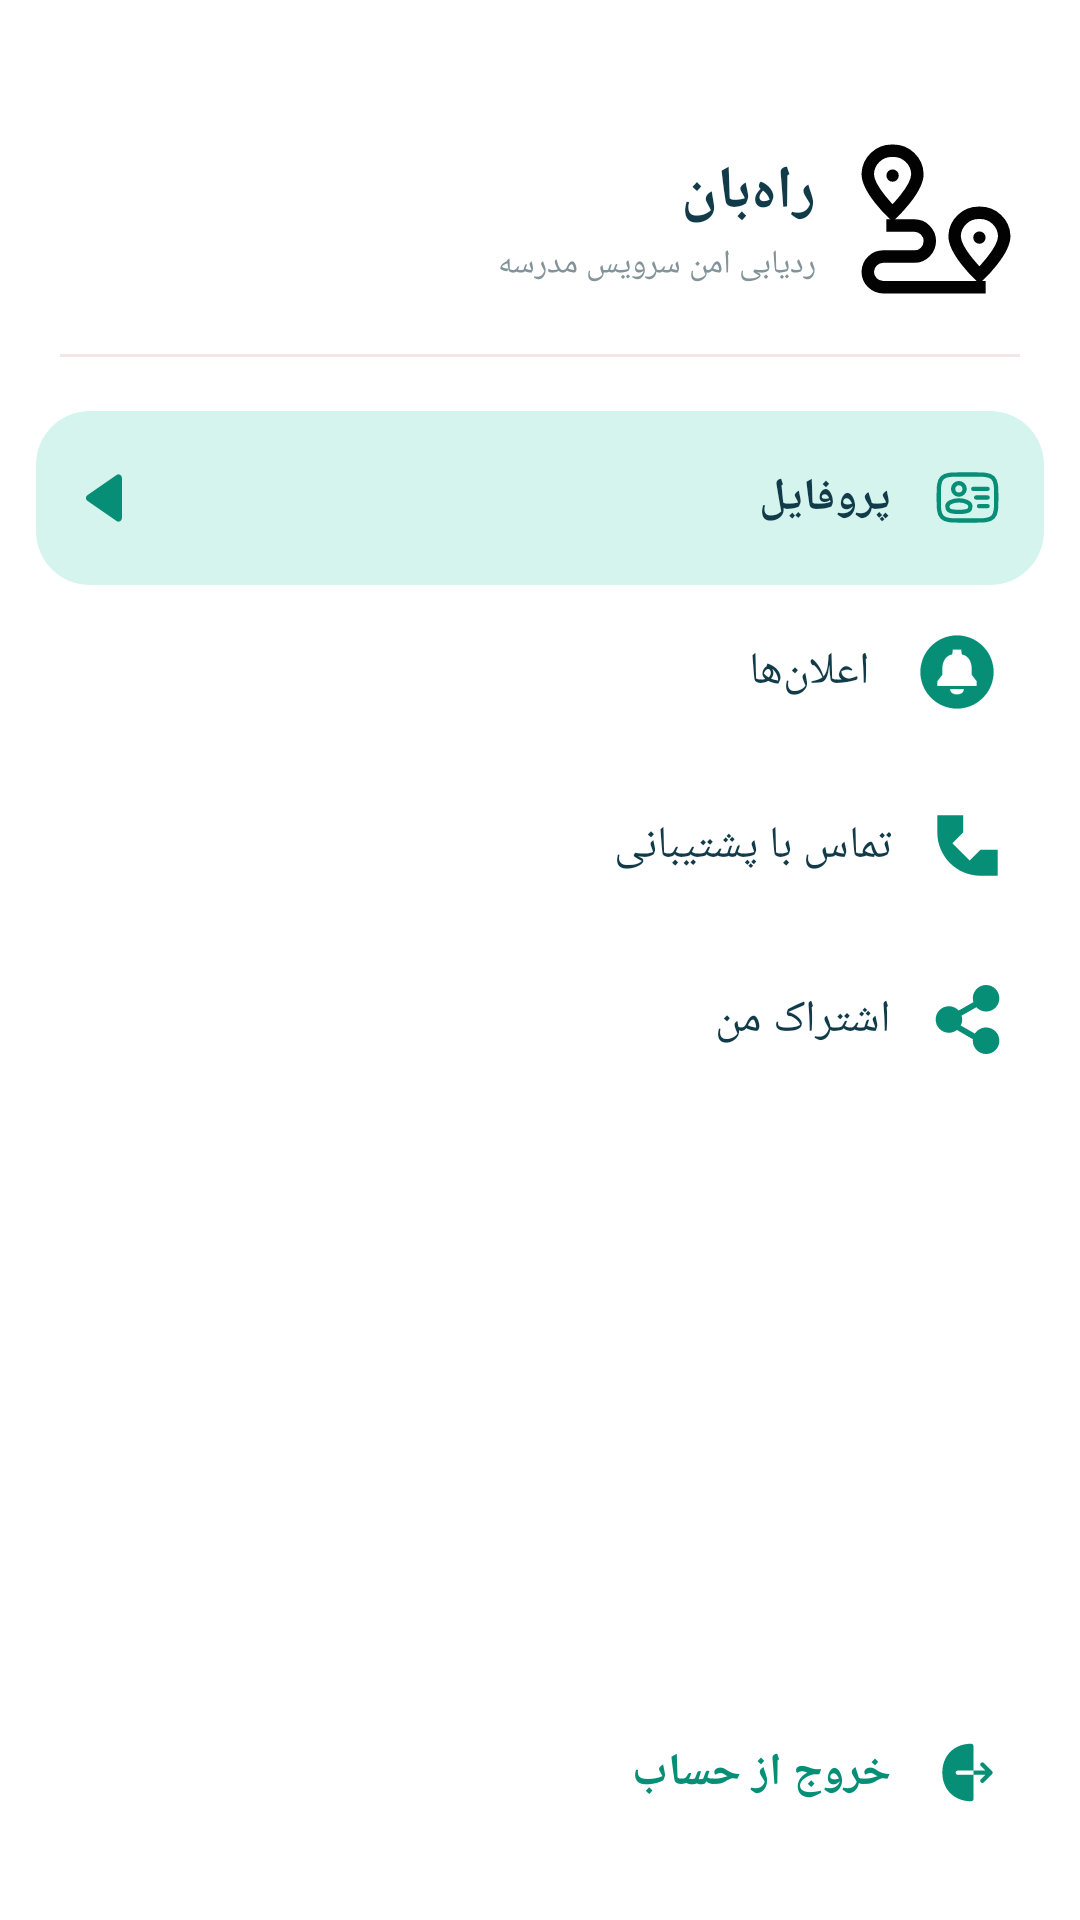

Where icons sit on this 1080 x 1920 app screen, as (x1, y1, x2, y2):
left arrow: (86, 474, 122, 522)
route: (861, 144, 1011, 294)
user id: (936, 472, 999, 523)
